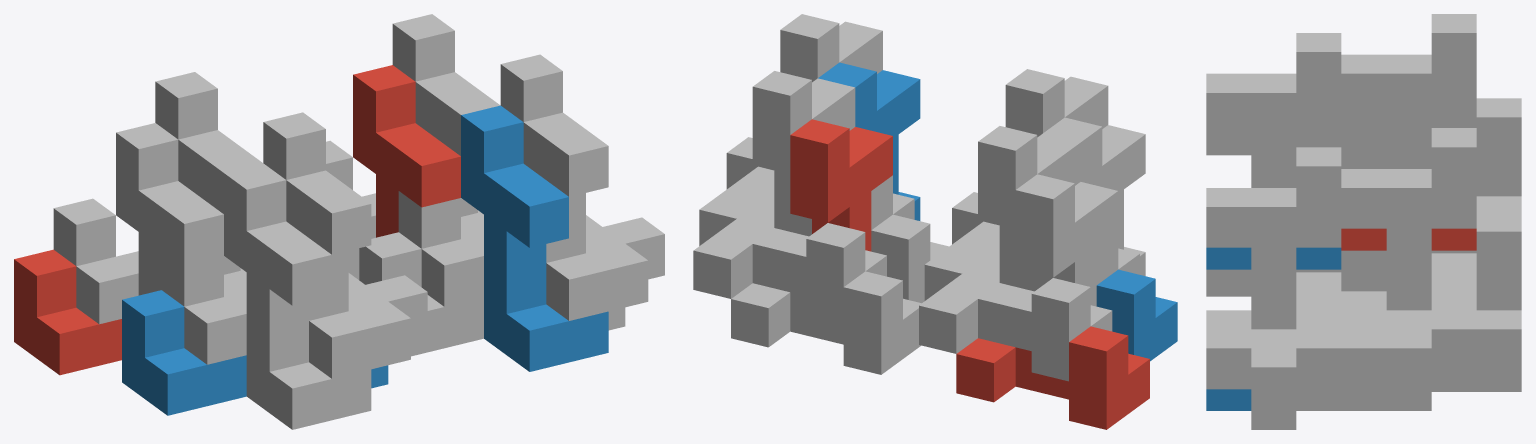
The model's file is tiling.obj.
3 views of the same model, side by side, from view 1: azimuth 30°, elevation 25°; view 2: azimuth 150°, elevation 25°; view 3: azimuth 270°, elevation 25° (orthographic). The views are drawn at different scales.
Parts seen in each view (by area): view 1: copy_2_domain_2, copy_2_domain_6, copy_2_domain_8, copy_2_domain_4, copy_2_domain_1, copy_2_domain_5, copy_1_domain_2, copy_1_domain_4, copy_1_domain_8, copy_1_domain_1, copy_2_domain_7, copy_2_domain_3 (+3 smaller); view 2: copy_1_domain_7, copy_1_domain_3, copy_1_domain_1, copy_1_domain_5, copy_2_domain_1, copy_2_domain_5, copy_2_domain_7, copy_2_domain_3, copy_2_domain_4, copy_2_domain_8, copy_2_domain_6, copy_2_domain_2 (+4 smaller); view 3: copy_2_domain_8, copy_1_domain_7, copy_2_domain_7, copy_1_domain_8, copy_2_domain_4, copy_2_domain_3, copy_1_domain_3, copy_2_domain_6, copy_1_domain_5, copy_1_domain_6, copy_2_domain_2, copy_2_domain_5 (+2 smaller).
Part boxes in pixels (x1,y1,x2,y2): copy_2_domain_2: (224,163,371,429); copy_2_domain_6: (461,105,608,371); copy_2_domain_8: (500,54,648,320); copy_2_domain_4: (263,112,410,378); copy_2_domain_1: (116,123,223,295); copy_2_domain_5: (353,65,460,237); copy_1_domain_2: (122,290,388,415); copy_1_domain_4: (161,249,427,364); copy_1_domain_8: (398,191,664,306); copy_1_domain_1: (14,249,121,375); copy_2_domain_7: (392,14,500,239); copy_2_domain_3: (155,72,262,296); copy_1_domain_7: (693,194,886,326); copy_1_domain_3: (919,249,1112,381); copy_1_domain_1: (956,326,1149,429); copy_1_domain_5: (731,271,921,374); copy_2_domain_1: (1015,174,1118,306); copy_2_domain_5: (790,119,892,251); copy_2_domain_7: (752,71,855,236); copy_2_domain_3: (978,126,1080,291); copy_2_domain_4: (1005,69,1108,137); copy_2_domain_8: (780,14,882,82); copy_2_domain_6: (818,62,920,220); copy_2_domain_2: (1043,117,1145,275); copy_2_domain_8: (1206,147,1341,389); copy_1_domain_7: (1386,212,1521,389); copy_2_domain_7: (1341,128,1476,329); copy_1_domain_8: (1251,250,1386,408); copy_2_domain_4: (1206,33,1341,274); copy_2_domain_3: (1341,14,1476,168); copy_1_domain_3: (1431,98,1521,253); copy_2_domain_6: (1206,247,1341,410); copy_1_domain_5: (1386,370,1521,410); copy_1_domain_6: (1251,389,1386,429); copy_2_domain_2: (1206,133,1341,296); copy_2_domain_5: (1341,228,1476,250).
Bounding box in the file's own units: 13 × 6 × 7.
